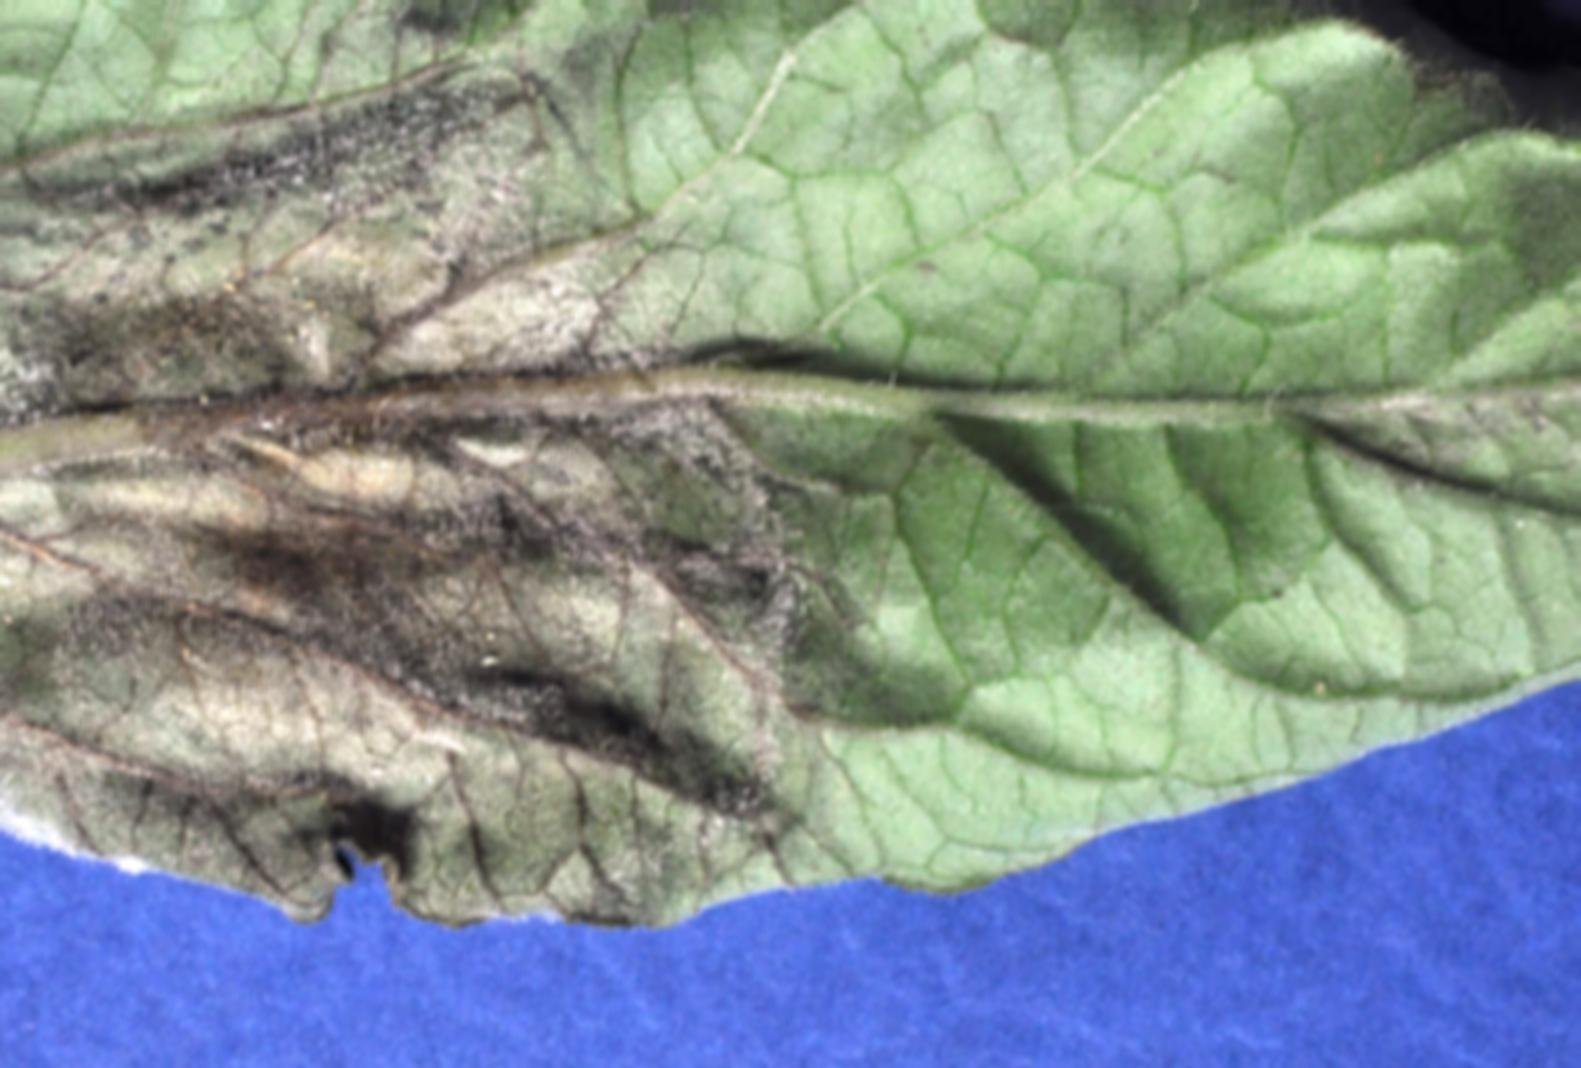Tomato leaf late blight: (0, 0, 1581, 899)
